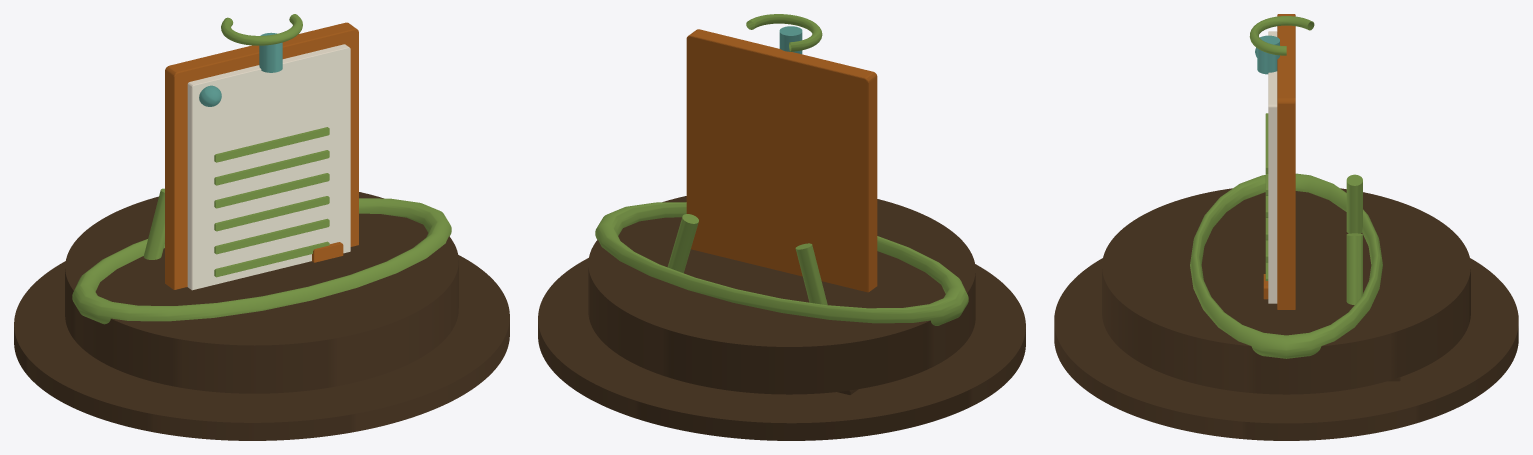
Rendered from 0730_敦煌图鉴_《鹿王本生》壁画.glb.
3 views of the same model, side by side, from view 1: azimuth 30°, elevation 25°; view 2: azimuth 150°, elevation 25°; view 3: azimuth 270°, elevation 25° (orthographic). The views are drawn at different scales.
Parts seen in each view (by area): view 1: card_0730; view 2: card_0730; view 3: card_0730.
Boxes of the visible parts, x1,y1,x2,y2 form: card_0730: (14, 14, 509, 440); card_0730: (538, 14, 1025, 440); card_0730: (1054, 14, 1518, 440).
Size of the model in its own units: 1.43 by 1 by 1.37.
